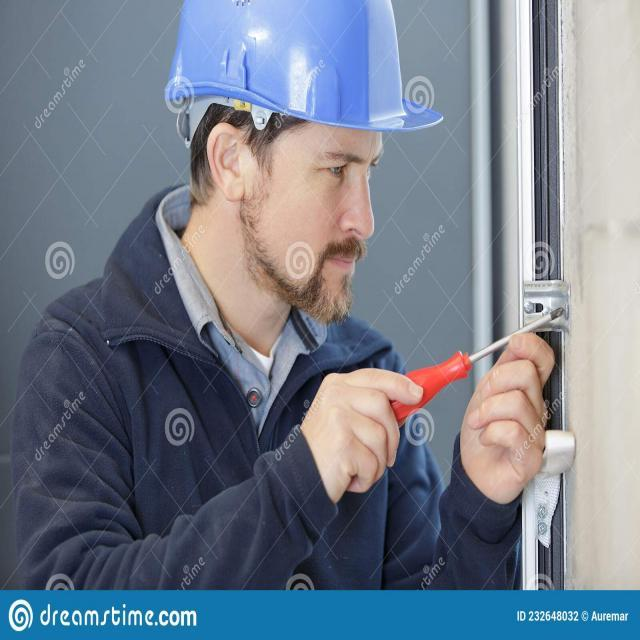screwdriver: (368, 303, 562, 421)
